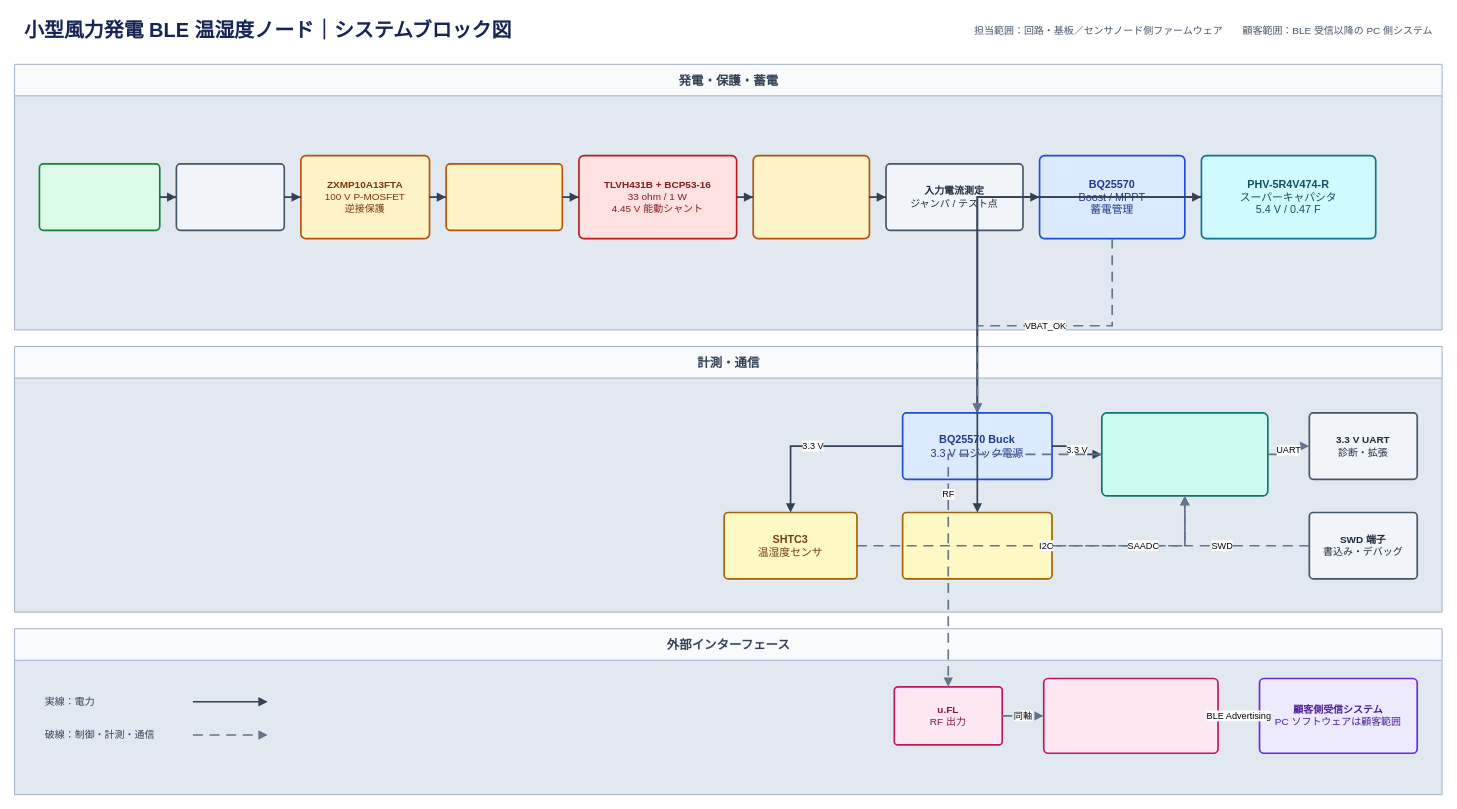
Image size: 1457x809. Some labels were removed from this diagram. The centre of each missing label's shape, as x and y in pixels:
ANTX100ETHAB24553 2.4 GHz 外部アンテナ: the point at 1130,715
DC 風力発電機 小型発電源: the point at 99,197
LM66100 理想ダイオード 逆流防止: the point at 811,196
MDBT50Q-U1MV2 nRF52840 計測・制御・BLE: the point at 1184,454
SMBJ40A 粗サージ保護: the point at 504,197
発電入力端子 テスト点: the point at 230,197
高抵抗分圧 + SAADC 蓄電電圧測定: the point at 976,545
